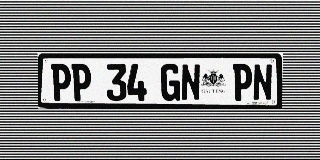3: (107, 64, 126, 101)
4: (127, 64, 147, 101)
G: (161, 64, 180, 101)
N: (181, 64, 201, 101), (253, 64, 273, 101)
P: (51, 64, 71, 101), (71, 64, 91, 101), (232, 64, 252, 101)
